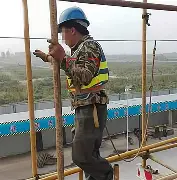safety belt: (62, 50, 112, 91)
